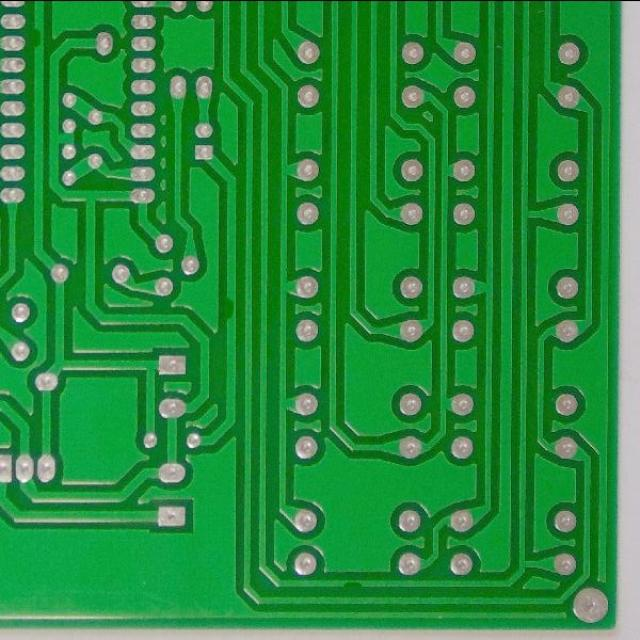mouse_bite: (220, 291, 240, 323), (27, 22, 47, 52), (338, 575, 370, 593)
